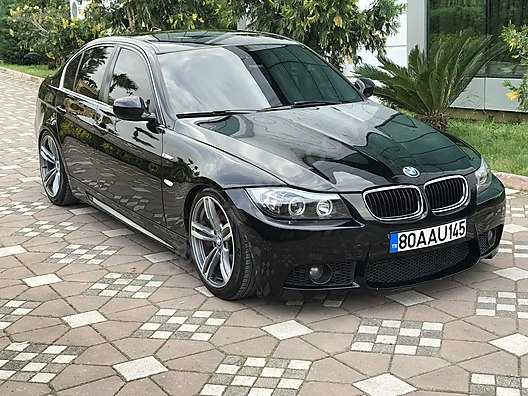bmw: (32, 23, 506, 306)
